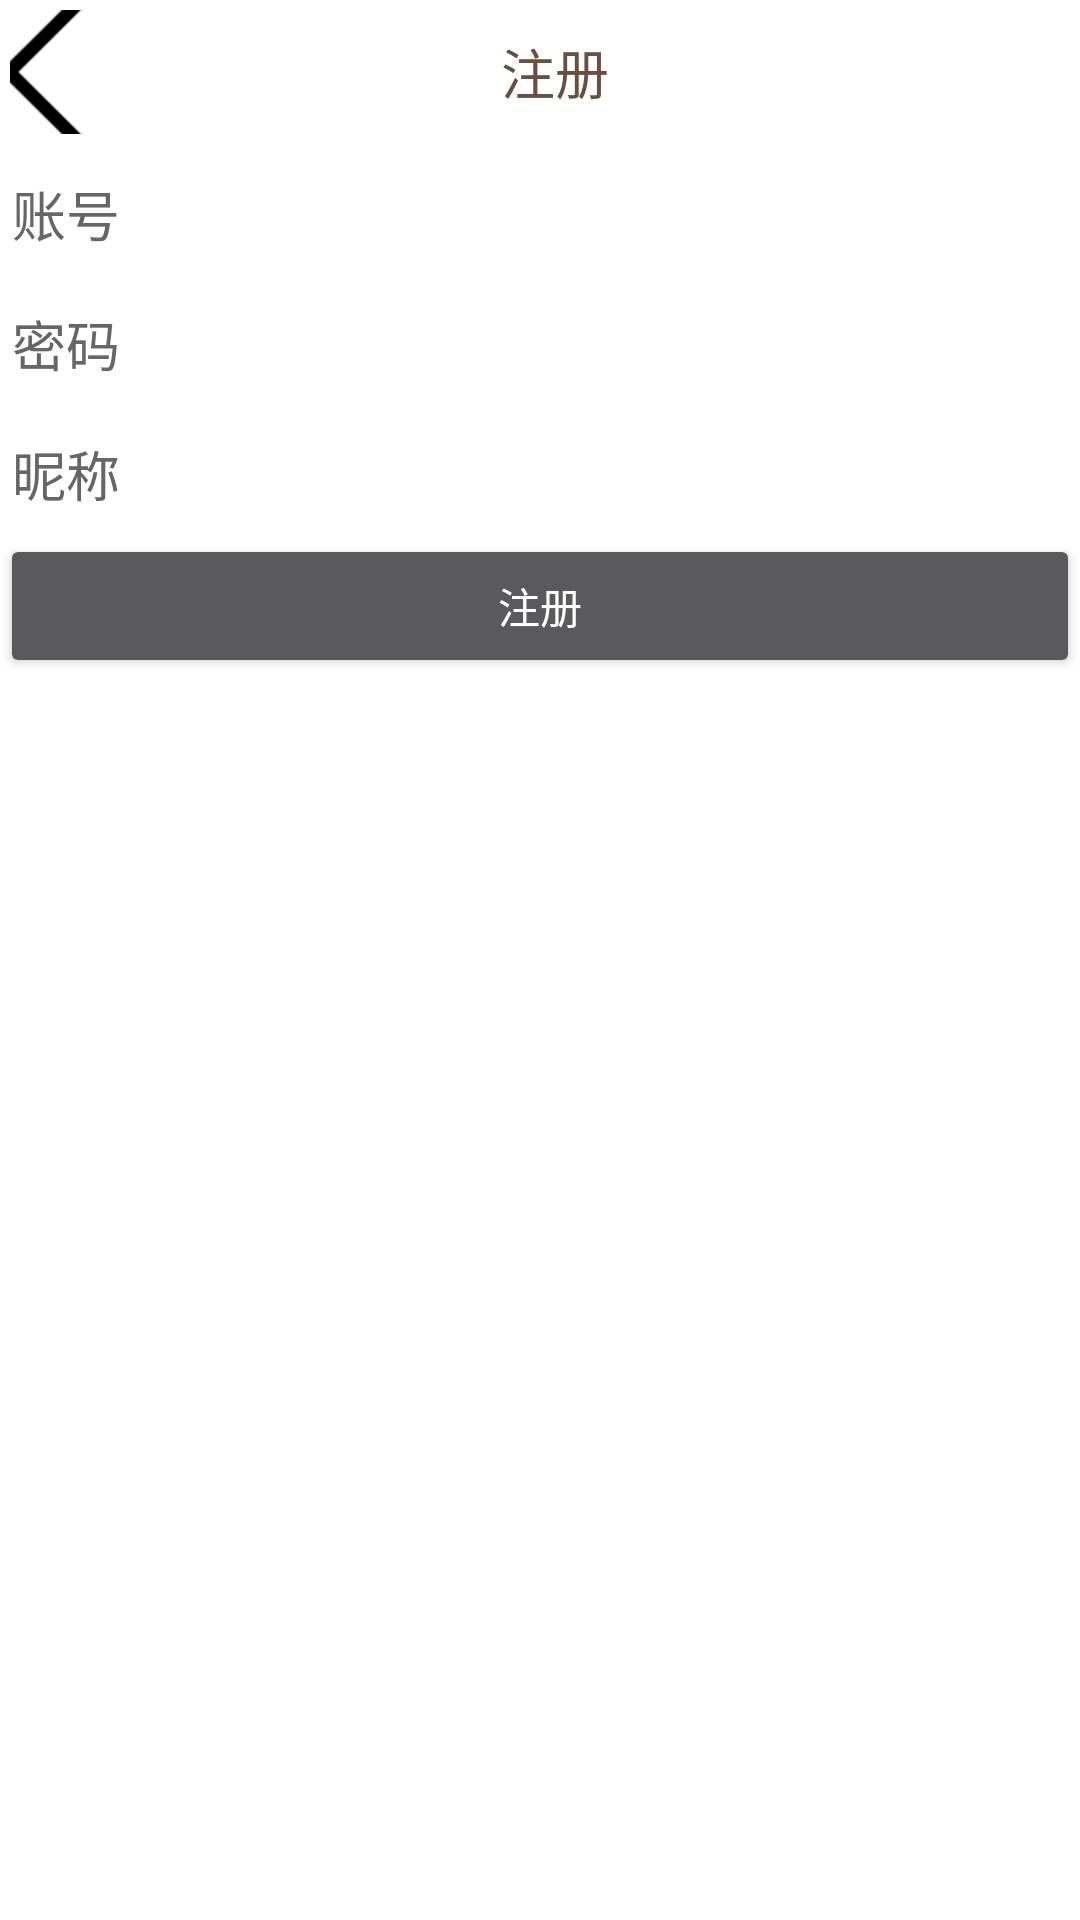

Named icons in this screenshot (1080 x 1920) and their centers, point (x, y):
back: point (46, 72)
